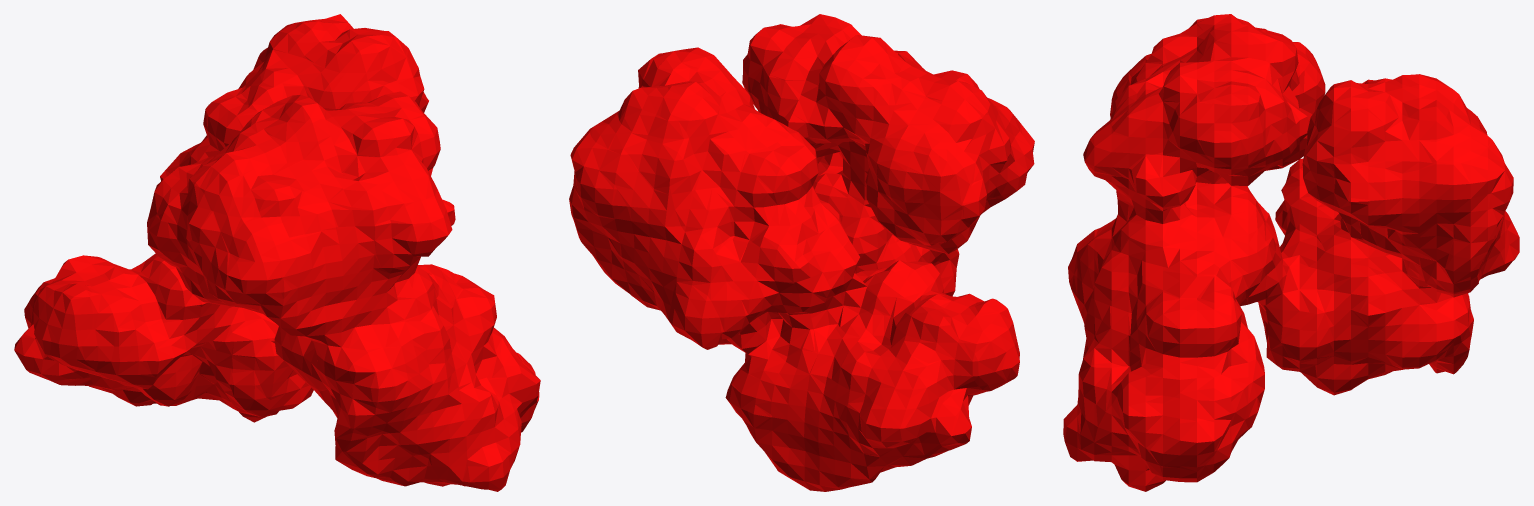
The model's file is rsmF_coarse.dae.
3 views of the same model, side by side, from view 1: azimuth 30°, elevation 25°; view 2: azimuth 150°, elevation 25°; view 3: azimuth 270°, elevation 25° (orthographic). The views are drawn at different scales.
Parts seen in each view (by area): view 1: rsmF; view 2: rsmF; view 3: rsmF.
Part boxes in pixels (<box>): rsmF: <box>14,14,540,491</box>; rsmF: <box>569,14,1034,491</box>; rsmF: <box>1063,14,1519,491</box>.
Bounding box in the file's own units: 123 × 108 × 112.
